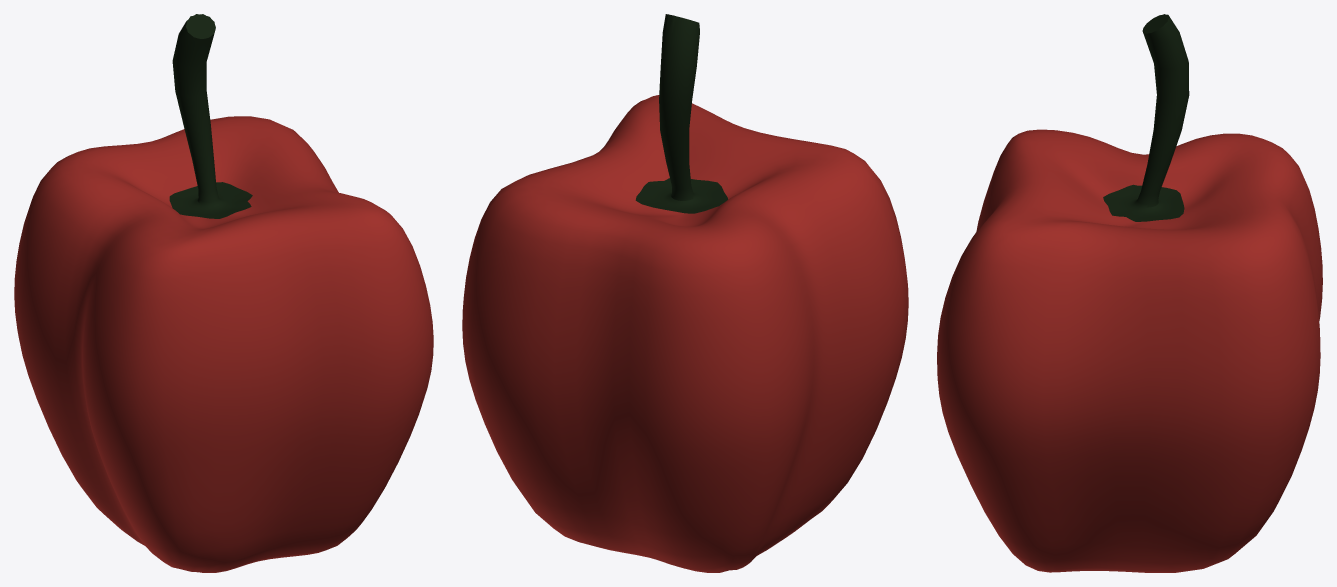
Rendered from Whole_Pepper.fbx.
3 views of the same model, side by side, from view 1: azimuth 30°, elevation 25°; view 2: azimuth 150°, elevation 25°; view 3: azimuth 270°, elevation 25° (orthographic). The views are drawn at different scales.
Parts seen in each view (by area): view 1: Pepper, PepperStem; view 2: Pepper, PepperStem; view 3: Pepper, PepperStem.
Part boxes in pixels (x1,y1,x2,y2): Pepper: [14, 116, 433, 572]; PepperStem: [169, 14, 252, 218]; Pepper: [462, 95, 908, 572]; PepperStem: [635, 14, 727, 213]; Pepper: [937, 129, 1322, 572]; PepperStem: [1103, 14, 1189, 221].
Bounding box in the file's own units: 3506 × 5409 × 3605.
